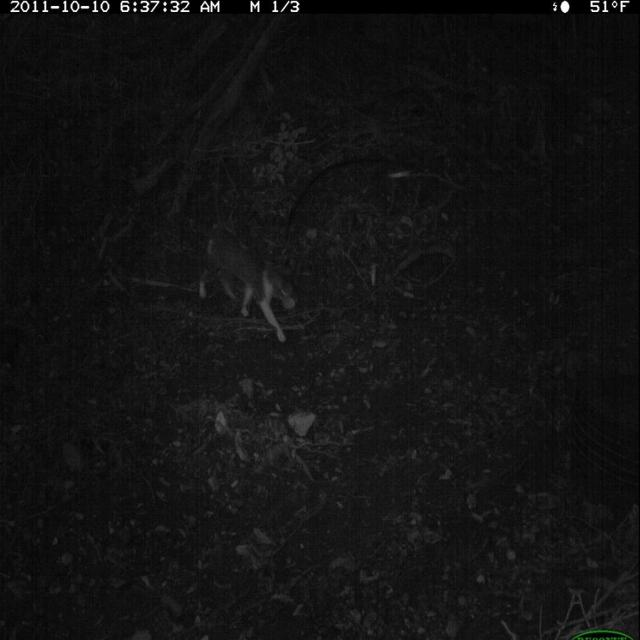cat: (191, 211, 304, 351)
